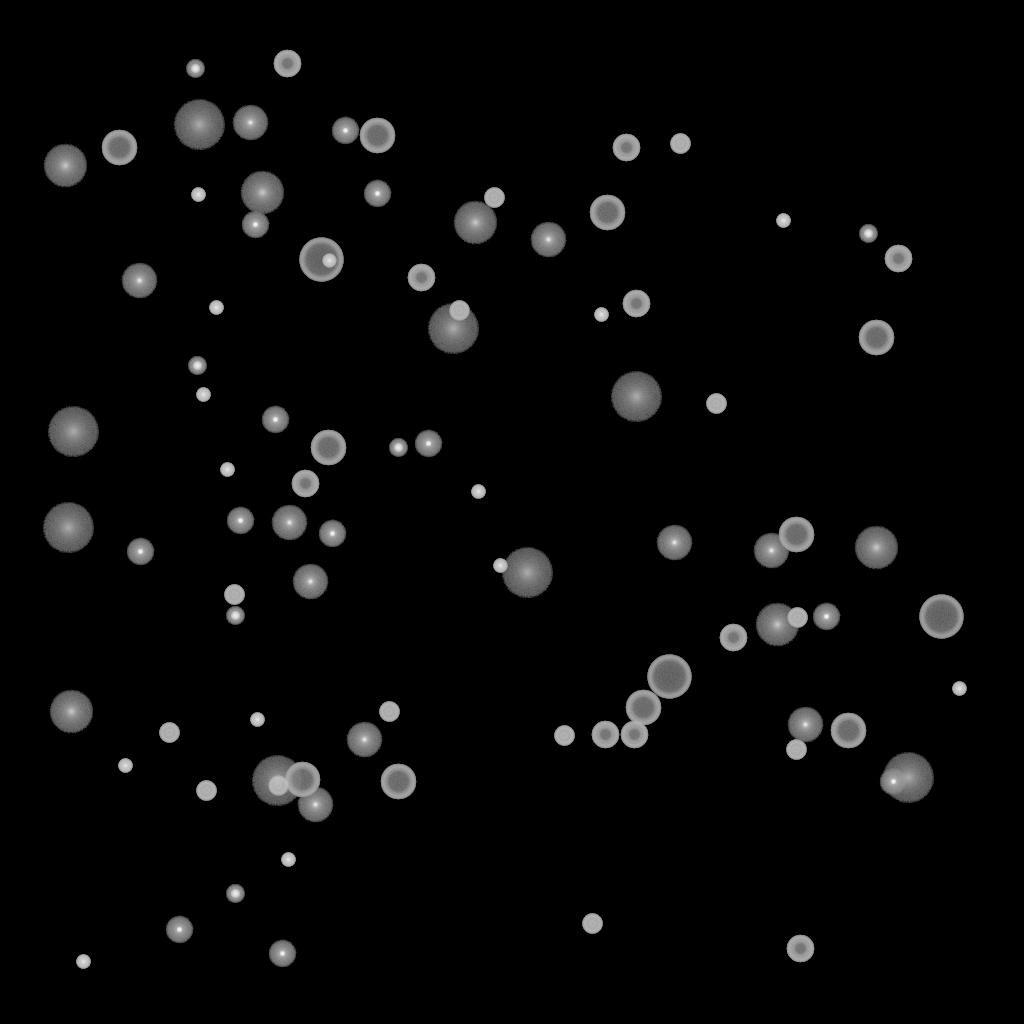depth:-10: (268, 940, 296, 968), (126, 538, 154, 566), (165, 916, 193, 944), (226, 507, 254, 535), (261, 406, 289, 434), (318, 520, 346, 548), (363, 180, 391, 208), (414, 430, 442, 458), (331, 117, 359, 145), (812, 603, 840, 631), (241, 211, 269, 239), (879, 768, 907, 796)
depth:-20: (226, 607, 244, 625), (859, 225, 877, 243), (188, 357, 206, 375), (186, 60, 204, 78), (226, 885, 244, 903), (389, 439, 407, 457)
depth:-30: (209, 301, 223, 315), (250, 713, 264, 727), (776, 214, 790, 228), (952, 682, 966, 696), (594, 308, 608, 322), (471, 485, 485, 499), (493, 559, 507, 573), (281, 853, 295, 867), (220, 463, 234, 477), (191, 188, 205, 202), (118, 759, 132, 773), (196, 388, 210, 402), (322, 254, 336, 268), (76, 955, 90, 969)
depth:-40: (379, 702, 399, 722), (449, 301, 469, 321), (670, 134, 690, 154), (484, 188, 504, 208), (786, 740, 806, 760), (159, 723, 179, 743), (582, 914, 602, 934), (196, 781, 216, 801), (787, 608, 807, 628), (224, 585, 244, 605), (268, 776, 288, 796), (706, 394, 726, 414), (554, 726, 574, 746)
depth:-50: (884, 245, 912, 273), (612, 134, 640, 162), (291, 470, 319, 498), (622, 290, 650, 318), (273, 50, 301, 78), (719, 624, 747, 652), (591, 721, 619, 749), (786, 935, 814, 963), (620, 721, 648, 749), (407, 264, 435, 292)
depth:-60: (380, 764, 416, 800), (858, 320, 894, 356), (284, 762, 320, 798), (359, 118, 395, 154), (830, 713, 866, 749), (625, 690, 661, 726), (101, 130, 137, 166), (589, 195, 625, 231), (778, 517, 814, 553), (310, 430, 346, 466)
depth:-70: (647, 655, 691, 699), (299, 238, 343, 282), (919, 595, 963, 639)
depth:0: (297, 787, 333, 823), (530, 222, 566, 258), (656, 525, 692, 561), (292, 564, 328, 600), (121, 263, 157, 299), (232, 105, 268, 141), (346, 722, 382, 758), (753, 533, 789, 569), (271, 505, 307, 541), (787, 707, 823, 743)
depth:10: (453, 201, 497, 245), (854, 526, 898, 570), (49, 690, 93, 734), (43, 144, 87, 188), (240, 171, 284, 215), (755, 603, 799, 647)
depth:20: (610, 372, 662, 422), (42, 503, 94, 553), (251, 756, 303, 806), (427, 304, 479, 354), (501, 548, 553, 598), (882, 753, 934, 803), (47, 407, 99, 457), (173, 100, 225, 150)
